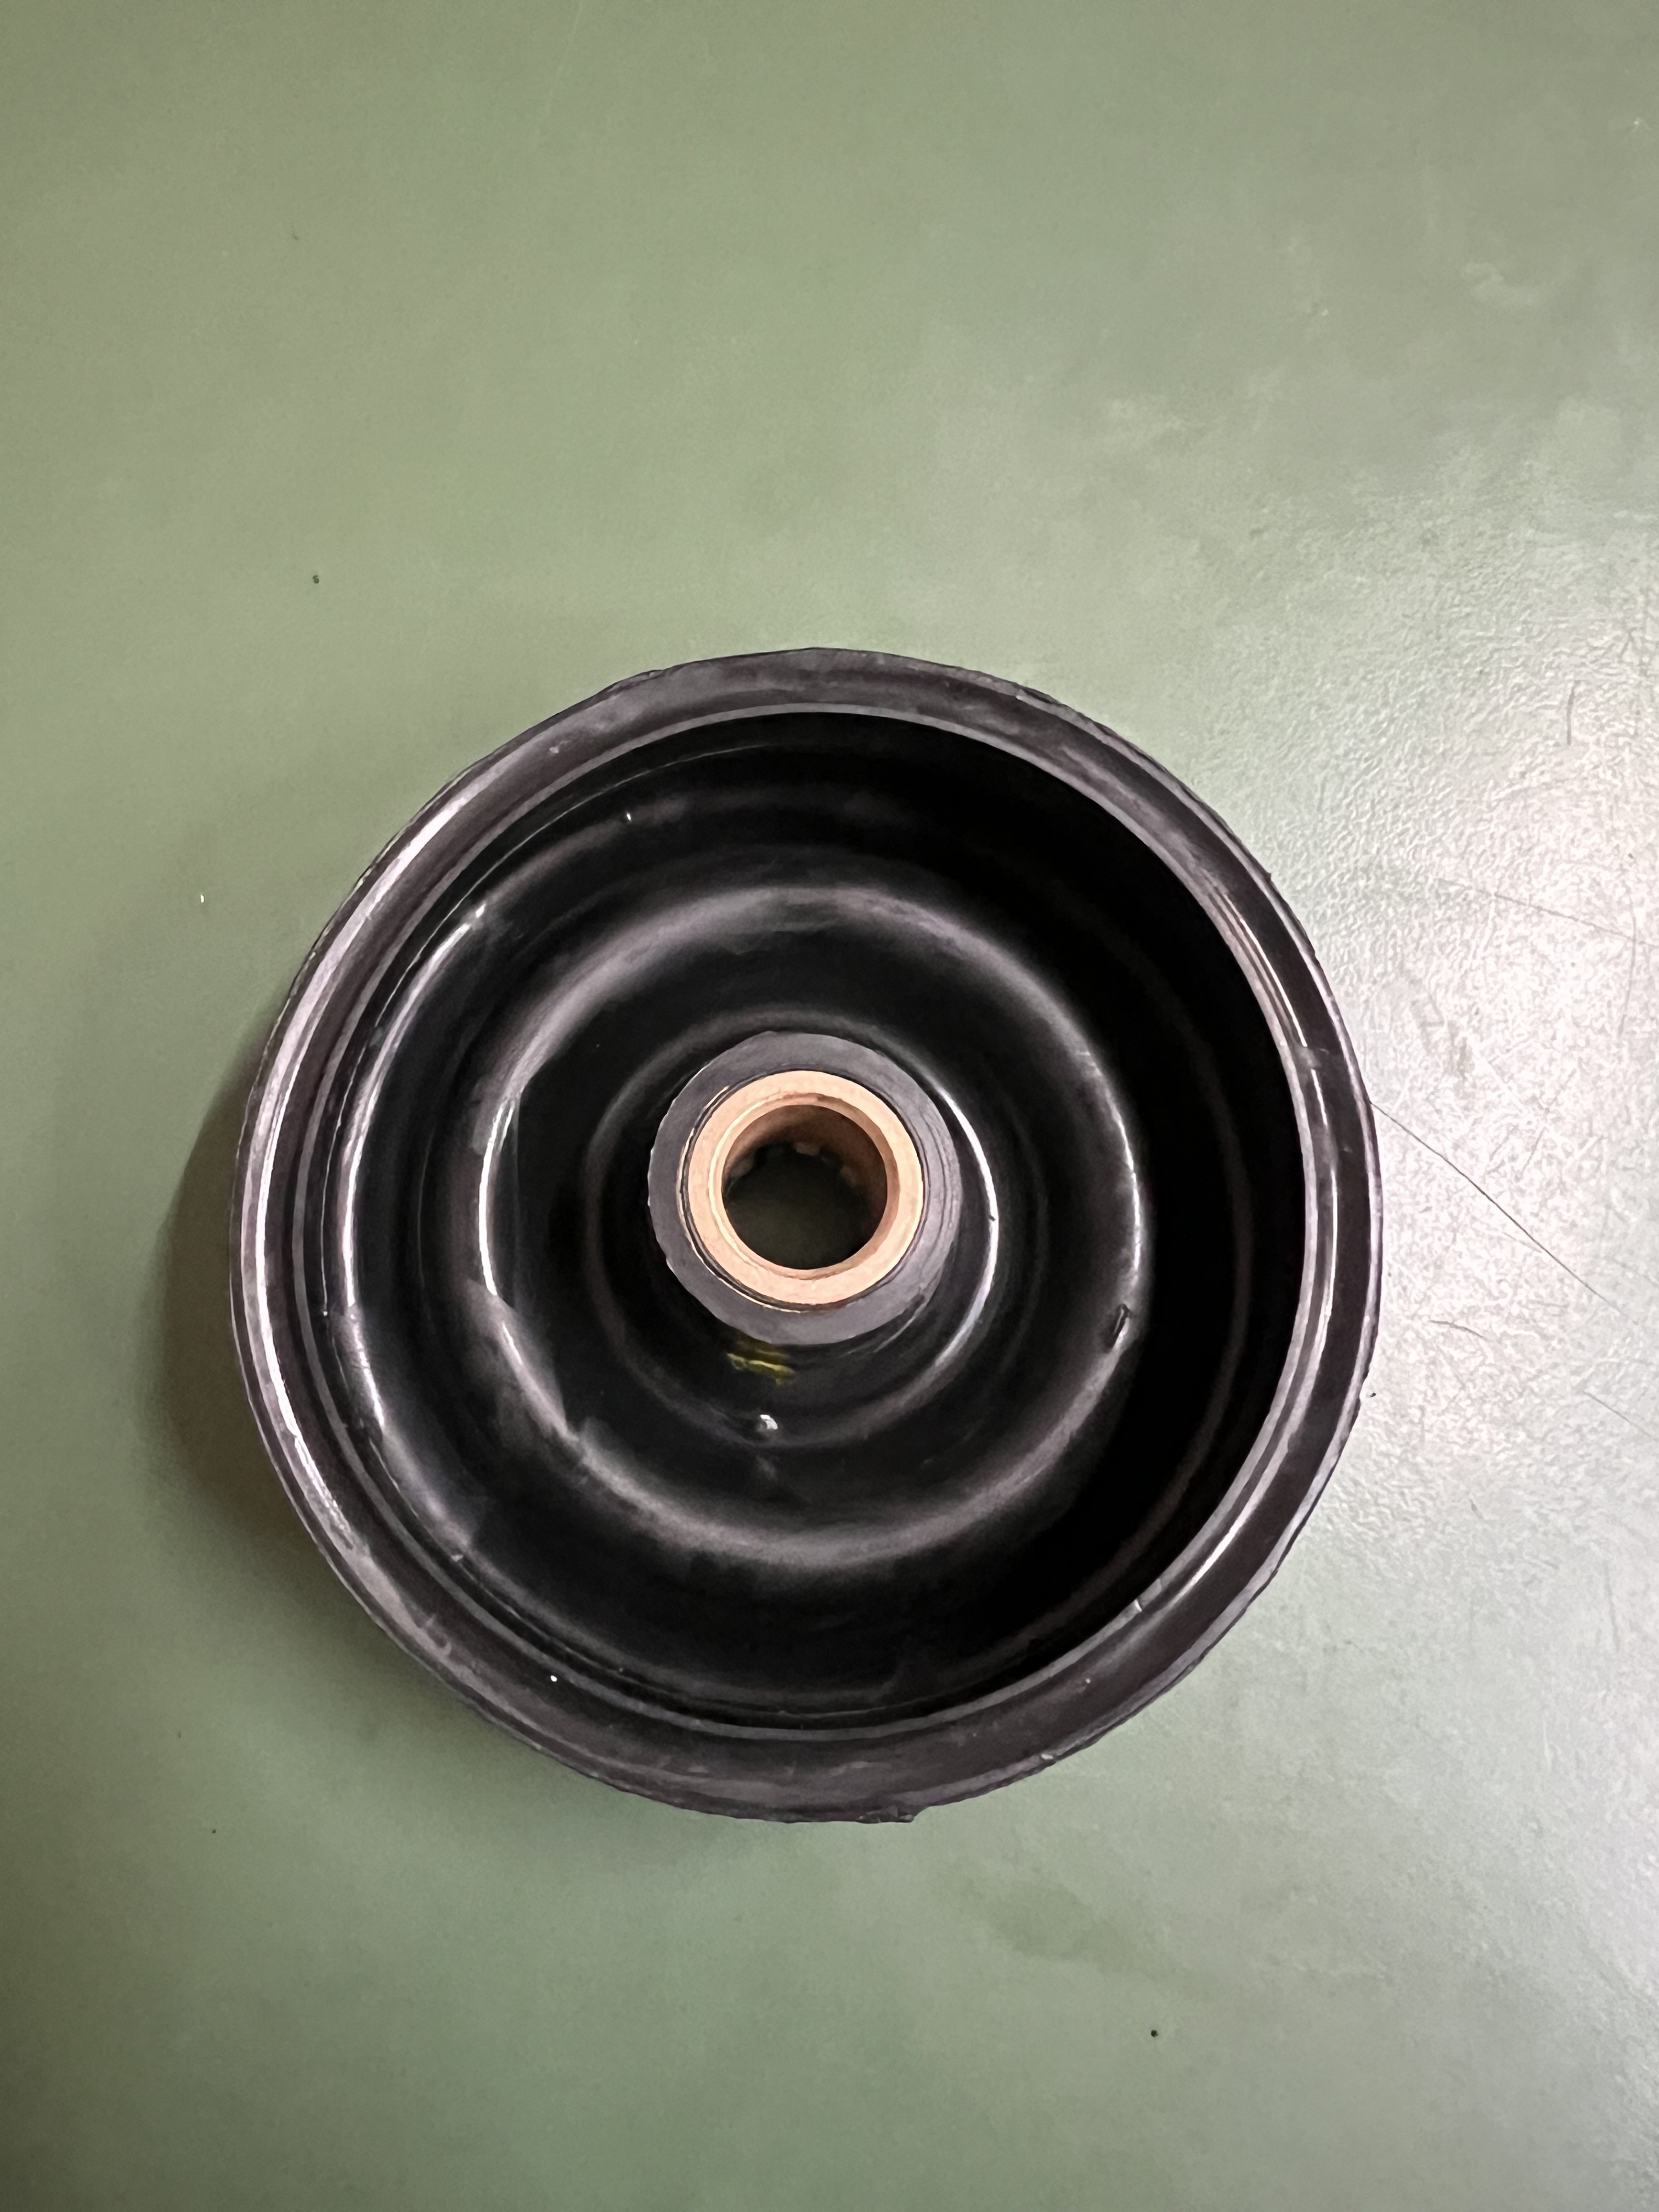lever: (174, 641, 1424, 1825)
